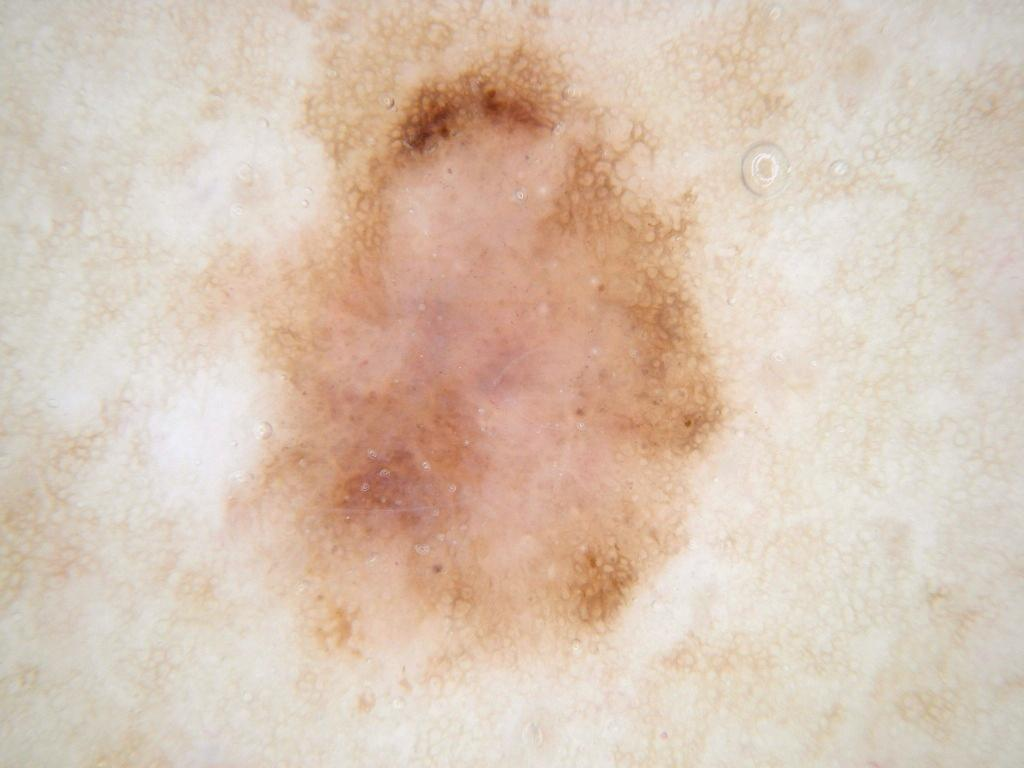Detected Lesion: (251, 1, 735, 674)
